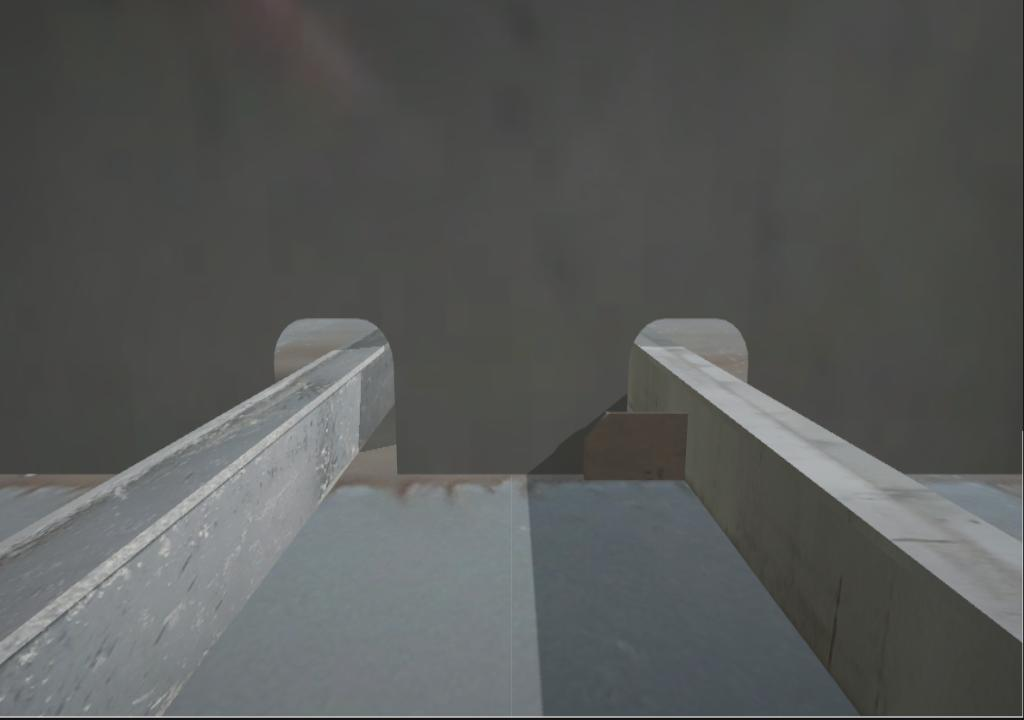fillet_yong_jeop_jang: (392, 465, 583, 485)
plate_CP03: (583, 412, 686, 481)
